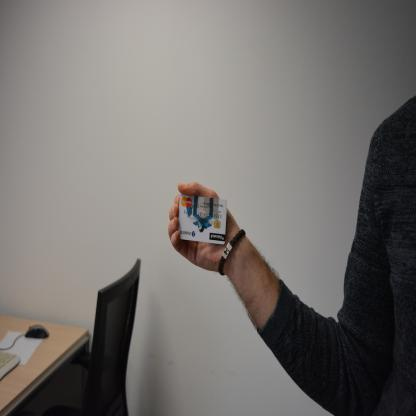tarjeta: (177, 194, 227, 244)
